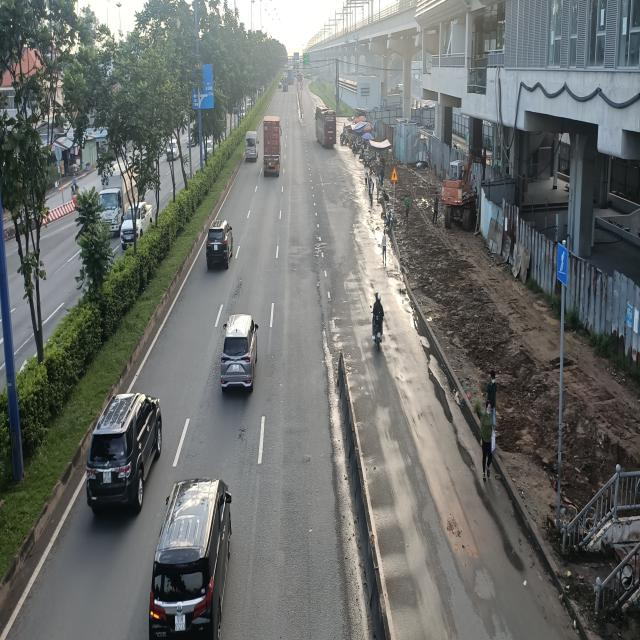car: (149, 477, 236, 640), (86, 390, 164, 515), (216, 317, 258, 397), (205, 221, 233, 270)
coach: (314, 103, 338, 148)
container: (263, 116, 283, 178)
van: (244, 128, 259, 163)
